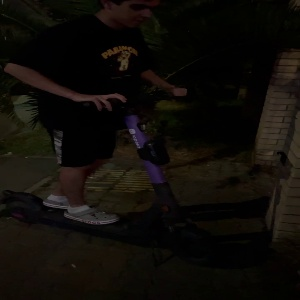human on a scooter: (2, 1, 214, 266)
